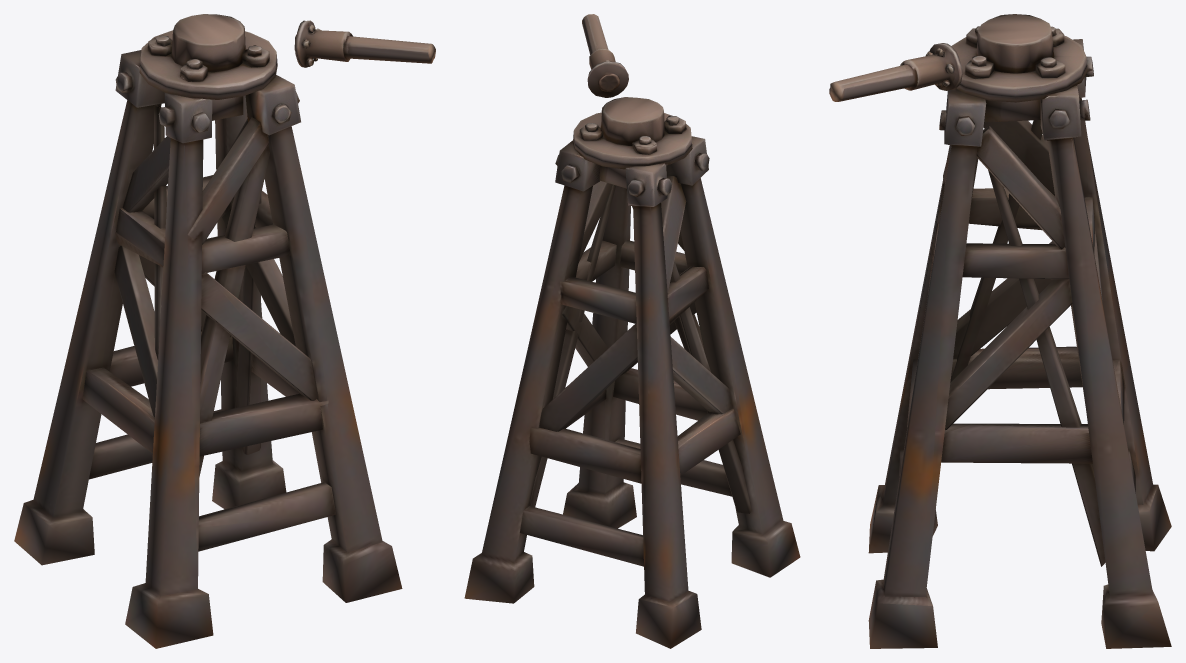
3 renders of one model, left to right at view 1: azimuth 30°, elevation 25°; view 2: azimuth 150°, elevation 25°; view 3: azimuth 270°, elevation 25°, orthographic. The views are drawn at different scales.
Visible parts, largest first — view 1: tripo_node_dcf7591d-6d61-451b-b3ab-0632f9795bf1; view 2: tripo_node_dcf7591d-6d61-451b-b3ab-0632f9795bf1; view 3: tripo_node_dcf7591d-6d61-451b-b3ab-0632f9795bf1.
Boxes of the visible parts, box(x1,y1,x2,y2) form: tripo_node_dcf7591d-6d61-451b-b3ab-0632f9795bf1: box(14, 14, 435, 648); tripo_node_dcf7591d-6d61-451b-b3ab-0632f9795bf1: box(464, 14, 800, 648); tripo_node_dcf7591d-6d61-451b-b3ab-0632f9795bf1: box(829, 14, 1171, 648).
Bounding box in the file's own units: 0.502 × 0.998 × 0.541.
Materials: 1 (1 with a texture image).
